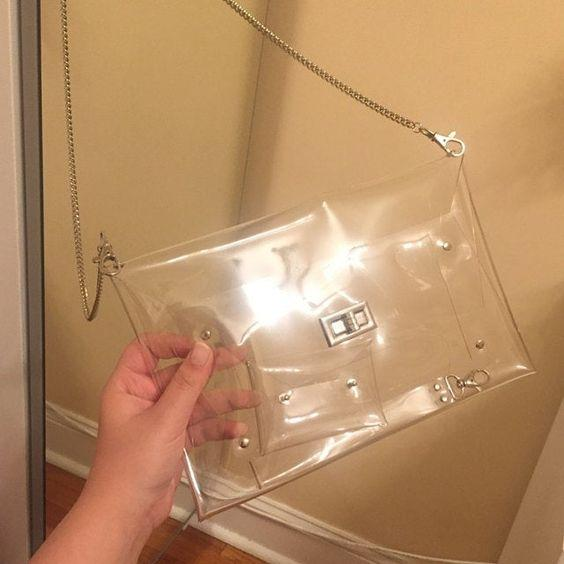PVC: (180, 234, 505, 409)
